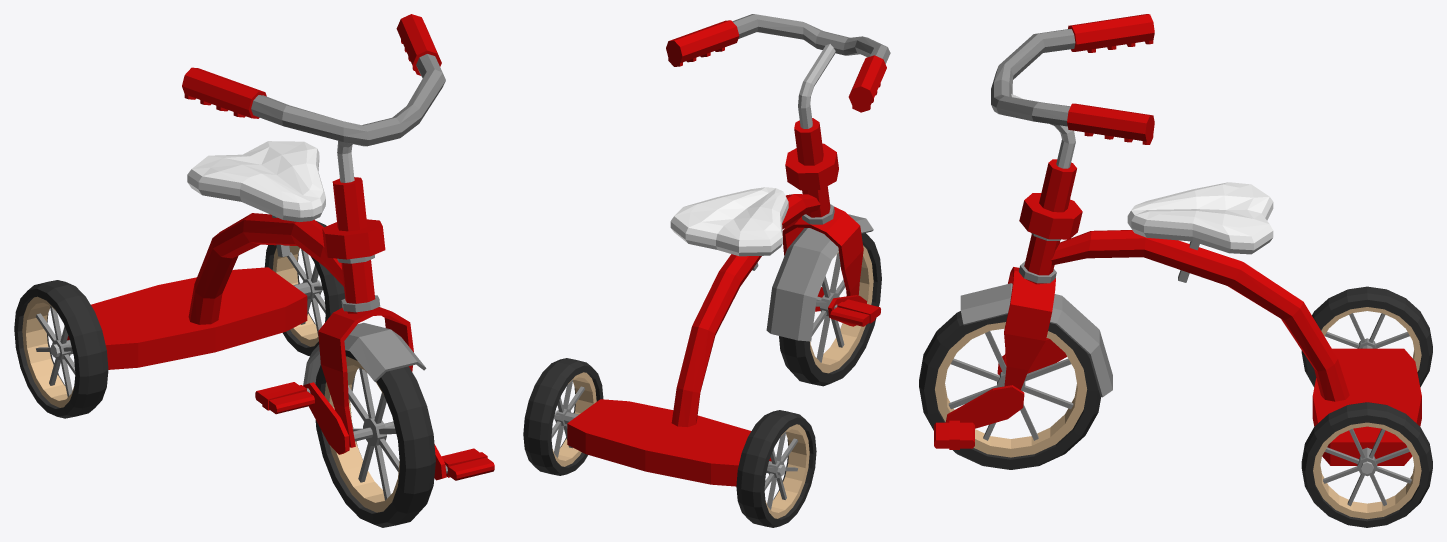
Rendered from 89e5cca6-2ef5-4388-9b54-9b20b705b606.glb.
3 renders of one model, left to right at view 1: azimuth 30°, elevation 25°; view 2: azimuth 150°, elevation 25°; view 3: azimuth 270°, elevation 25°, orthographic. The views are drawn at different scales.
Visible parts, largest first — view 1: Node; view 2: Node; view 3: Node.
Part boxes in pixels (bbox=[...]): Node: bbox=[14, 14, 494, 527]; Node: bbox=[523, 14, 890, 527]; Node: bbox=[919, 14, 1432, 527].
Size of the model in its own units: 4.23 by 6.14 by 7.11.
